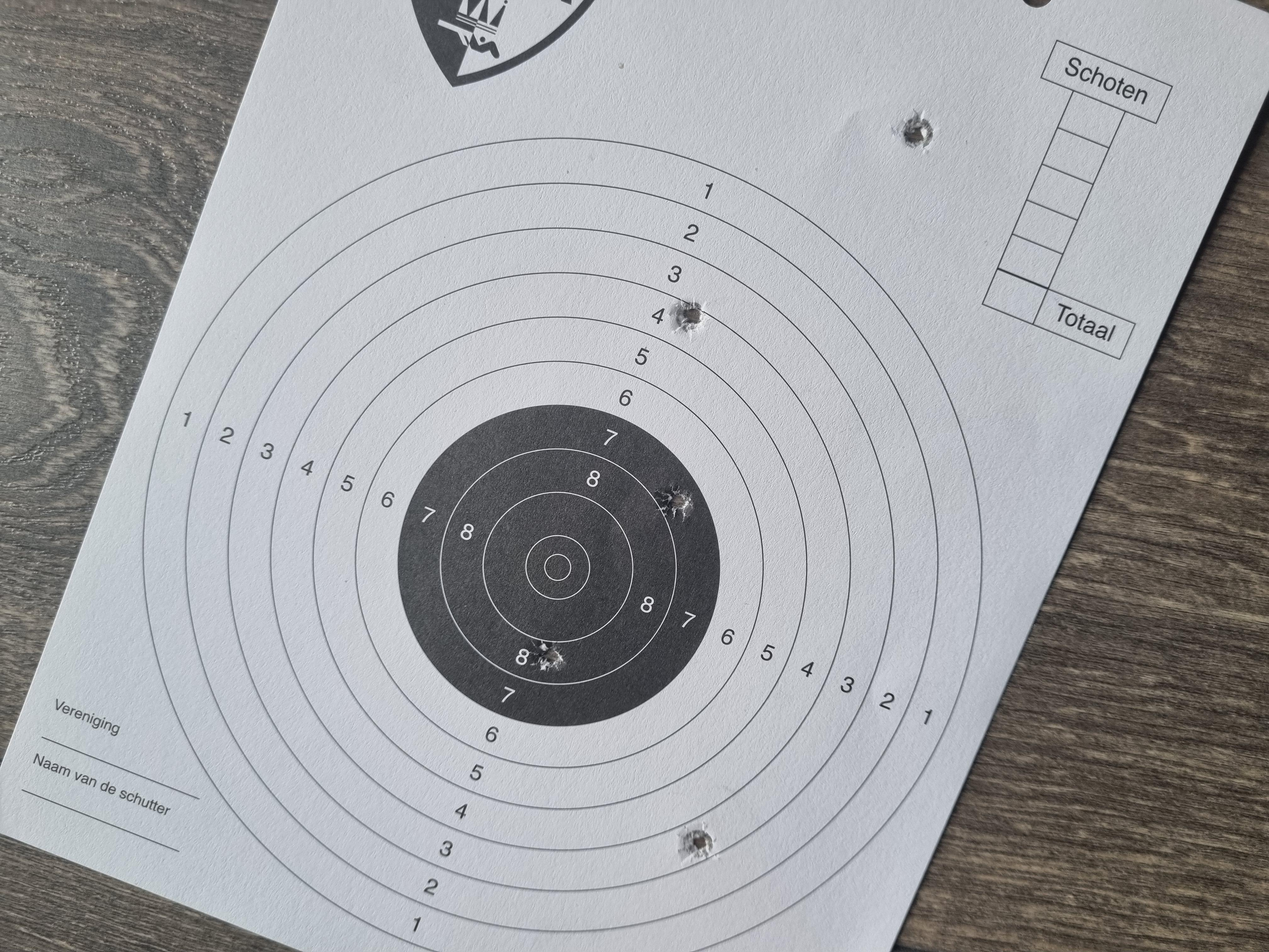hole: (115, 505, 171, 541), (822, 502, 870, 529), (1069, 675, 1115, 702), (577, 493, 621, 521), (373, 398, 412, 427)
